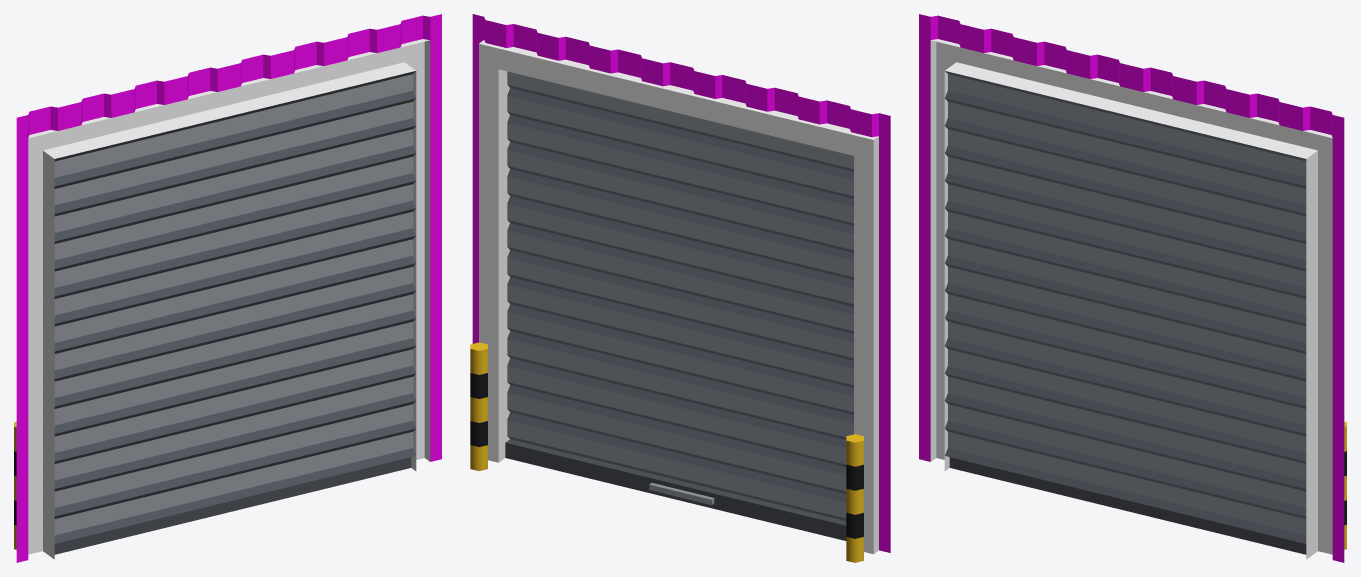
File: ind_door_roll.glb
3 renders of one model, left to right at view 1: azimuth 30°, elevation 25°; view 2: azimuth 150°, elevation 25°; view 3: azimuth 330°, elevation 25°, orthographic.
Parts seen in each view (by area): view 1: ind_door_roll__mesh; view 2: ind_door_roll__mesh; view 3: ind_door_roll__mesh.
Boxes of the visible parts, <box> form: ind_door_roll__mesh: <box>14,14,441,562</box>; ind_door_roll__mesh: <box>470,14,890,562</box>; ind_door_roll__mesh: <box>919,14,1346,562</box>.
Size of what is drawn, in the model's own units: 4 by 4 by 0.4136.
1 material, 1 textured.
